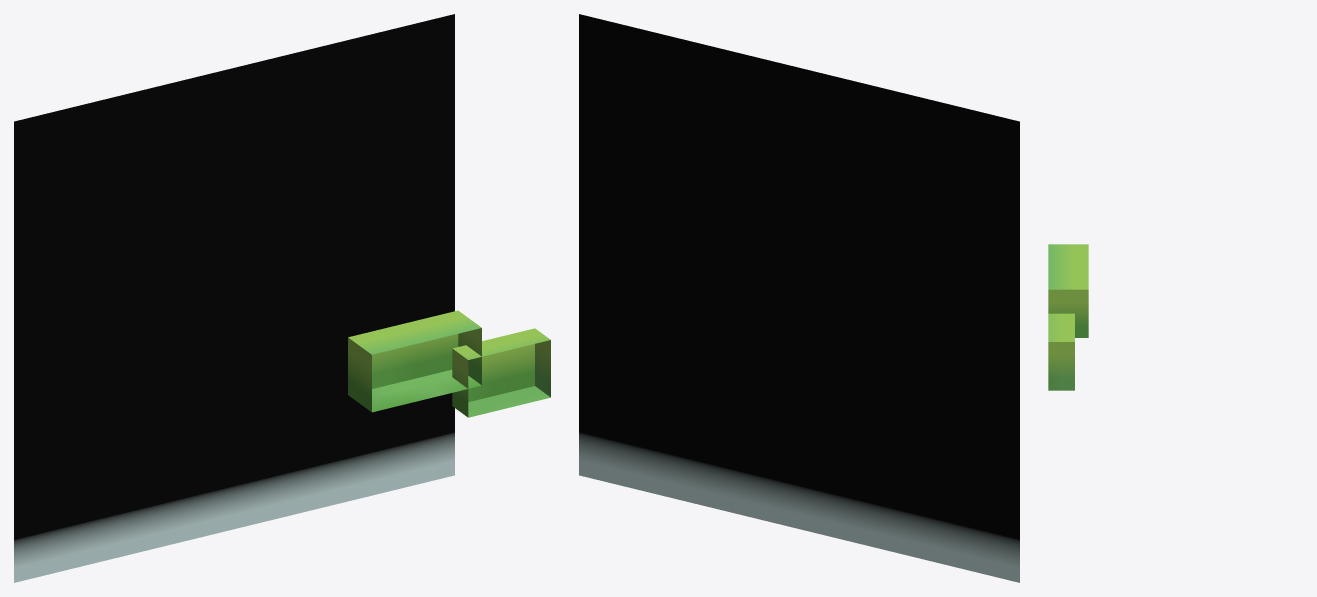
3 views of the same model, side by side, from view 1: azimuth 30°, elevation 25°; view 2: azimuth 150°, elevation 25°; view 3: azimuth 270°, elevation 25° (orthographic). The views are drawn at different scales.
Parts seen in each view (by area): view 1: frame, interior; view 2: frame; view 3: interior.
Part boxes in pixels (left/top/right/bottom): frame: left=14, top=14, right=454, bottom=582; interior: left=348, top=310, right=550, bottom=417; frame: left=579, top=14, right=1019, bottom=582; interior: left=1048, top=244, right=1088, bottom=390.
Size of the model in its own units: 1 by 1 by 0.5938.
